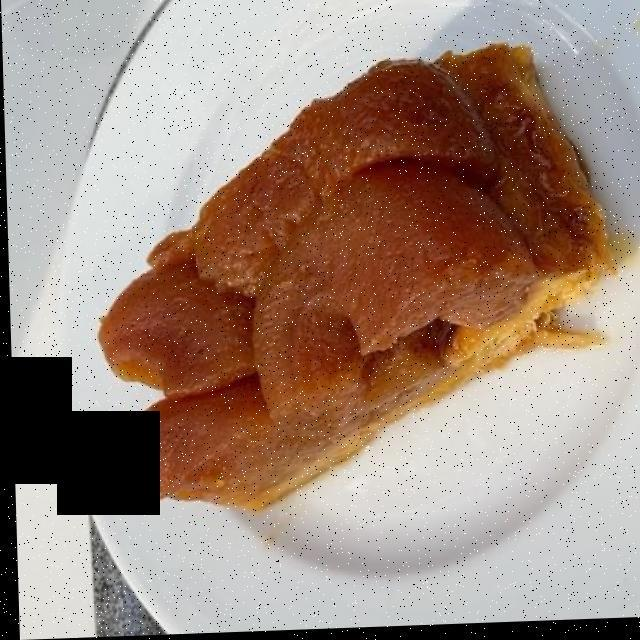apple-pie: (103, 49, 606, 508)
